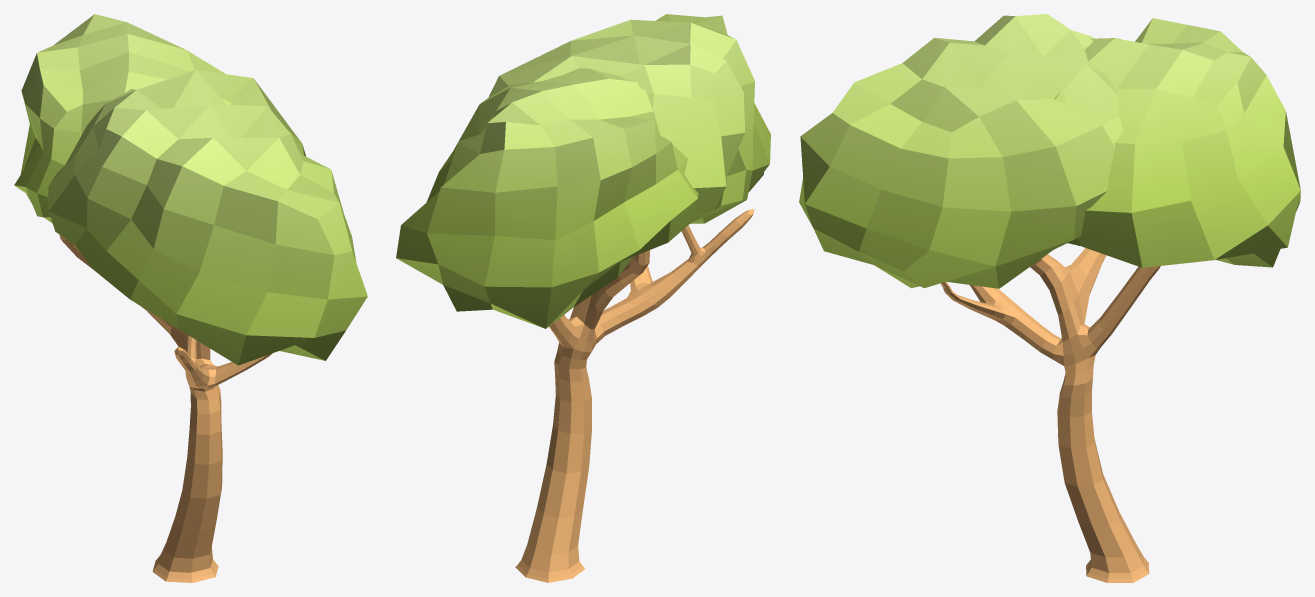
The model's file is CommonTree5.fbx.
3 renders of one model, left to right at view 1: azimuth 30°, elevation 25°; view 2: azimuth 150°, elevation 25°; view 3: azimuth 270°, elevation 25°, orthographic. The views are drawn at different scales.
Visible parts, largest first — view 1: CommonTree_5_Cube.014; view 2: CommonTree_5_Cube.014; view 3: CommonTree_5_Cube.014.
Part boxes in pixels (x1,y1,x2,y2): CommonTree_5_Cube.014: (14, 14, 367, 582); CommonTree_5_Cube.014: (396, 14, 770, 582); CommonTree_5_Cube.014: (799, 14, 1300, 582).
Bounding box in the file's own units: 129 × 253 × 225.
